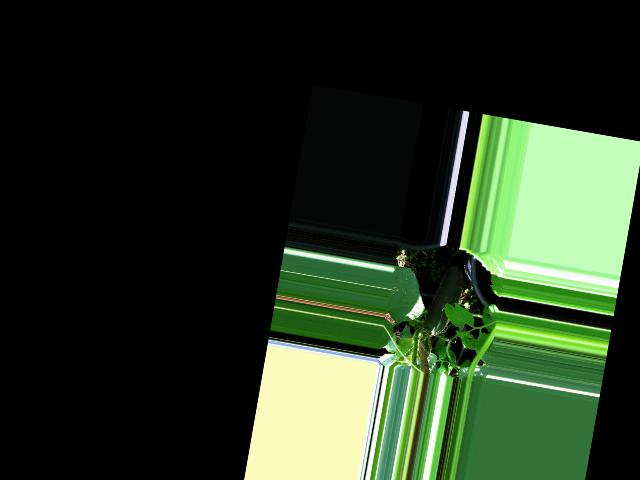cucumber: (421, 262, 466, 339)
